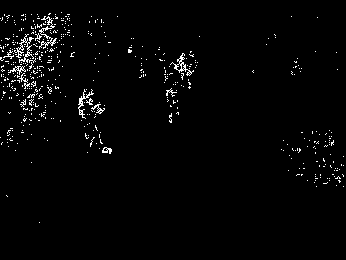person: (76, 88, 112, 154), (161, 62, 181, 123), (188, 50, 194, 87)
